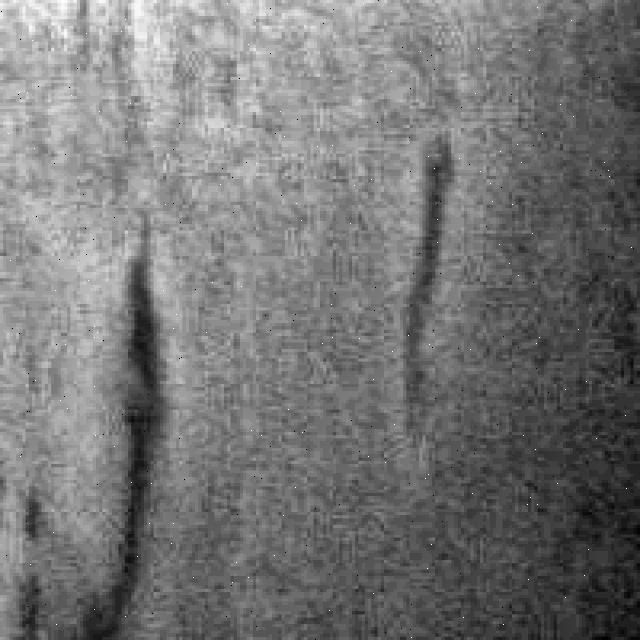Patches: (93, 218, 176, 618), (388, 125, 470, 372)
